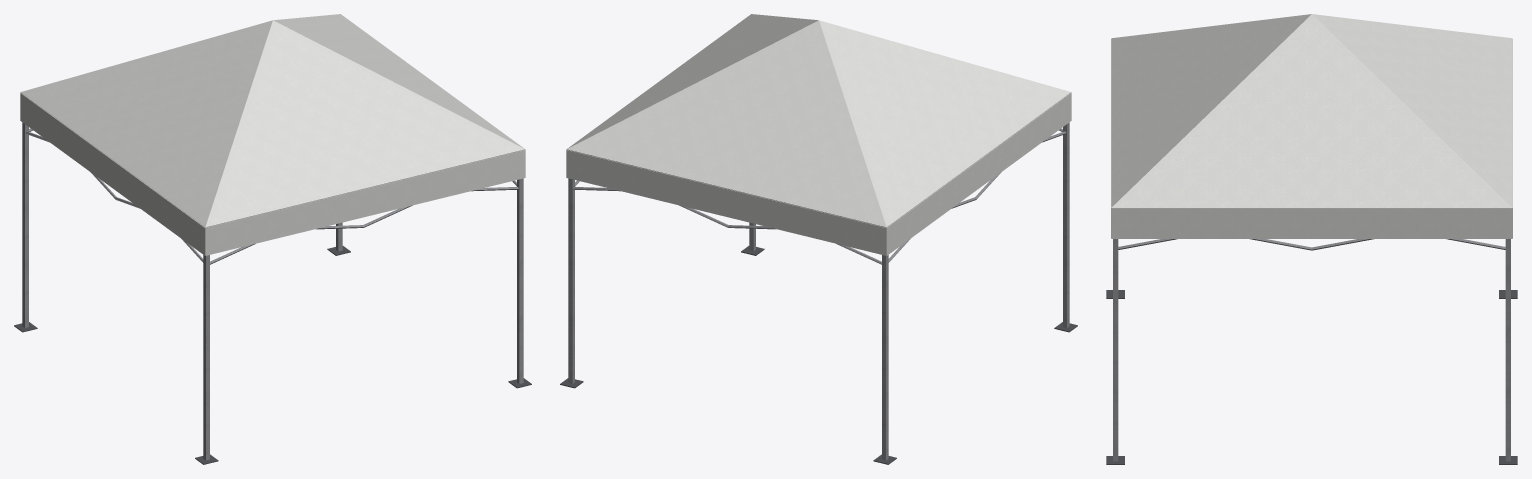
File: gazebo_3x3.gltf
3 views of the same model, side by side, from view 1: azimuth 30°, elevation 25°; view 2: azimuth 150°, elevation 25°; view 3: azimuth 270°, elevation 25° (orthographic). The views are drawn at different scales.
Parts seen in each view (by area): view 1: gazebo_3x3; view 2: gazebo_3x3; view 3: gazebo_3x3.
Boxes of the visible parts, x1,y1,x2,y2 form: gazebo_3x3: (14, 14, 531, 464); gazebo_3x3: (560, 14, 1077, 464); gazebo_3x3: (1106, 14, 1517, 464).
Bounding box in the file's own units: 3.08 × 3.01 × 3.08.
3 materials, 3 textured.
